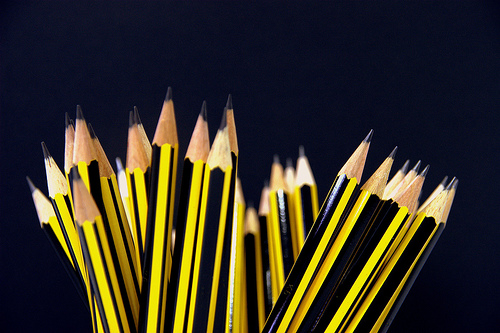pen_tip: (331, 121, 379, 187)
